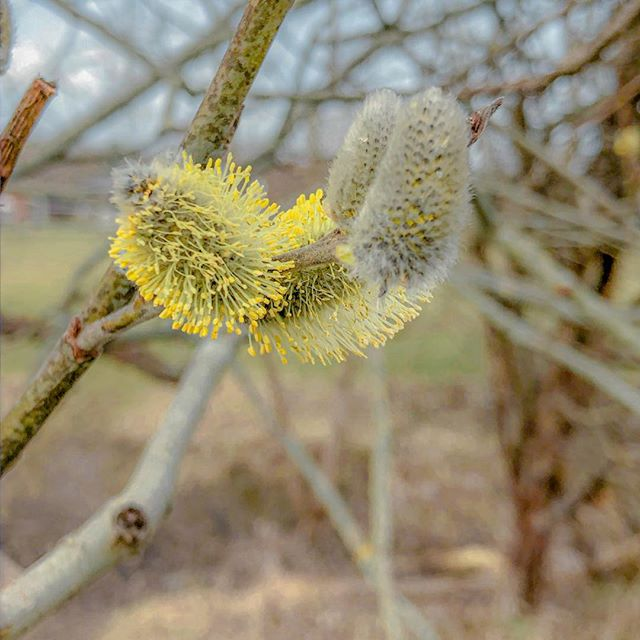vegetation: (1, 1, 640, 640)
